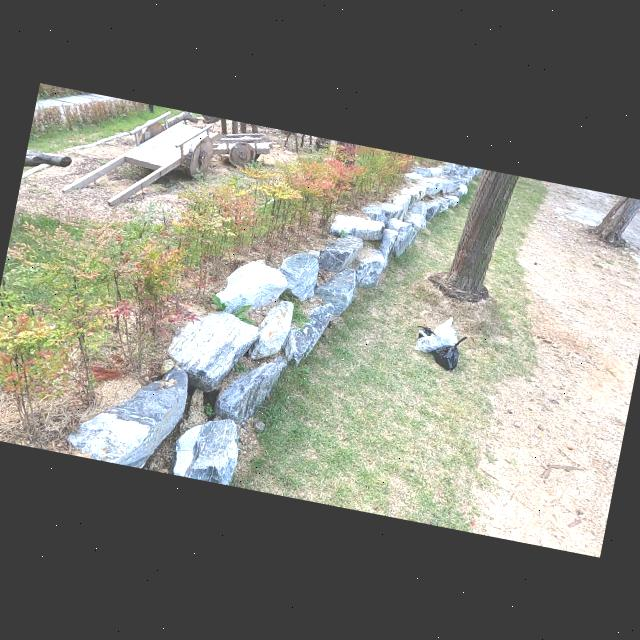trash: (427, 333, 467, 373), (425, 313, 463, 352), (412, 326, 448, 355)
